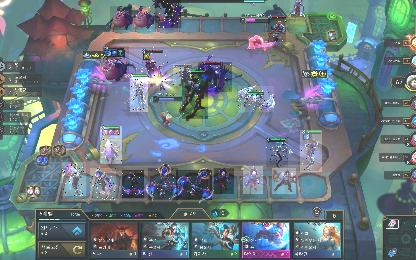1_nomsy: (134, 6, 158, 30), (110, 6, 132, 30)
1_skarner: (176, 170, 212, 200), (148, 168, 178, 200)
1_syfen: (198, 62, 232, 92), (155, 0, 181, 28)
1_sylas: (272, 168, 296, 194), (173, 64, 191, 86)
1_varus: (122, 170, 144, 198)
1_vladimir: (243, 166, 263, 194), (214, 168, 234, 194)
2_heimerdinger: (268, 16, 286, 42)
2_lux: (100, 126, 122, 164), (62, 162, 86, 196)
2_nidalee: (266, 137, 288, 167)
2_nomsy: (103, 46, 129, 82)
2_skarner: (238, 86, 274, 112)
2_sylas: (182, 71, 208, 119)
2_varus: (300, 130, 322, 172), (90, 168, 116, 200)
2_vladimir: (130, 74, 148, 112), (290, 0, 308, 24)
2_zippy: (142, 47, 168, 87)
